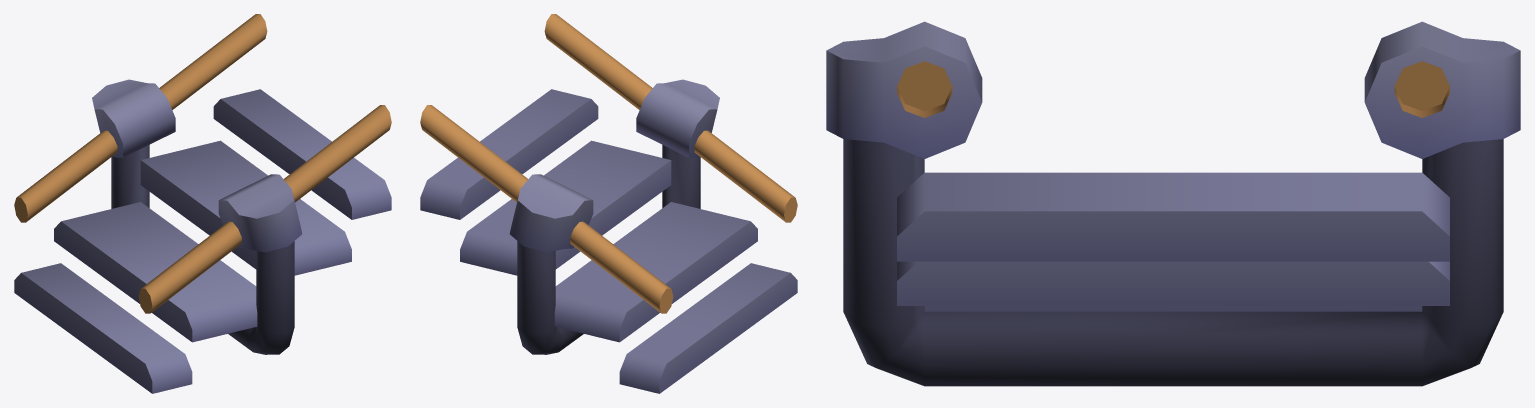
The model's file is catwalk-stairs-loop.glb.
3 renders of one model, left to right at view 1: azimuth 30°, elevation 25°; view 2: azimuth 150°, elevation 25°; view 3: azimuth 270°, elevation 25°, orthographic. The views are drawn at different scales.
Visible parts, largest first — view 1: catwalk-stairs-loop; view 2: catwalk-stairs-loop; view 3: catwalk-stairs-loop.
Part boxes in pixels (x1=…): catwalk-stairs-loop: x1=14, y1=14, x2=391, y2=393; catwalk-stairs-loop: x1=420, y1=14, x2=797, y2=393; catwalk-stairs-loop: x1=826, y1=21, x2=1520, y2=386.
Bounding box in the file's own units: 1 × 0.9 × 1.26.
